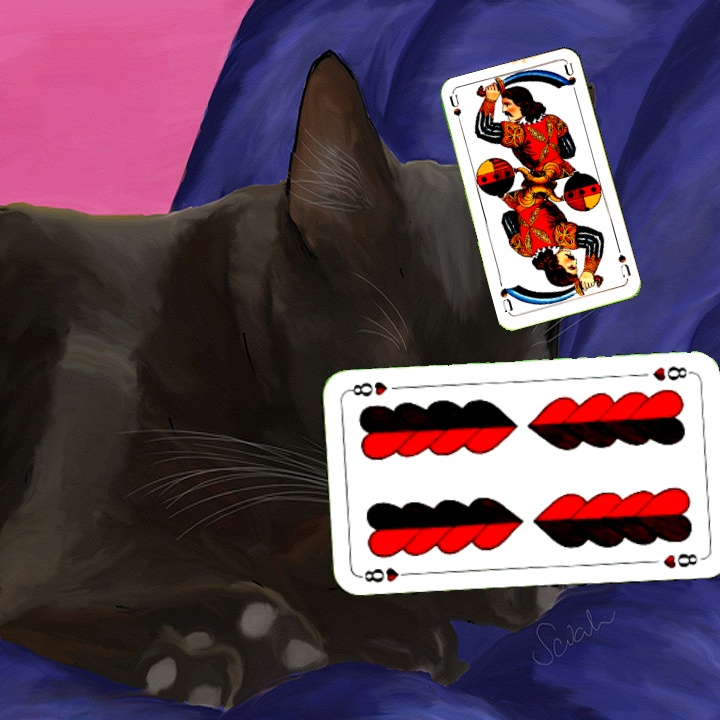H8: (356, 563, 415, 586), (648, 361, 694, 384)
SU: (446, 92, 466, 133), (613, 243, 633, 283)
